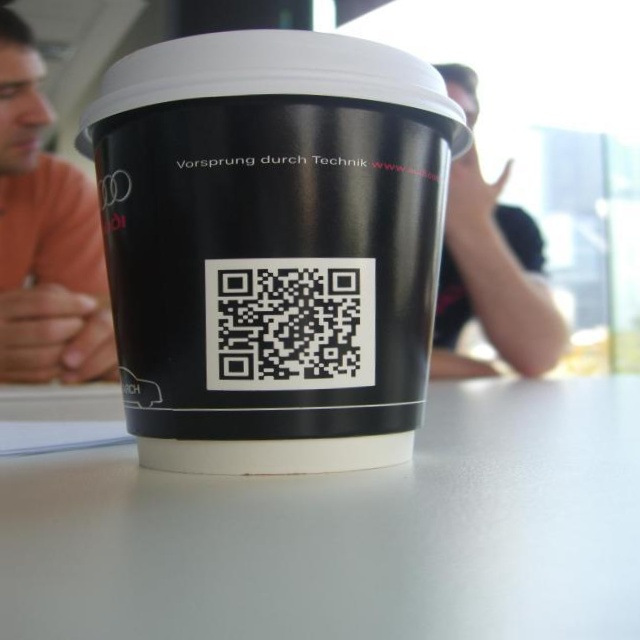qr-code: (216, 267, 362, 380)
